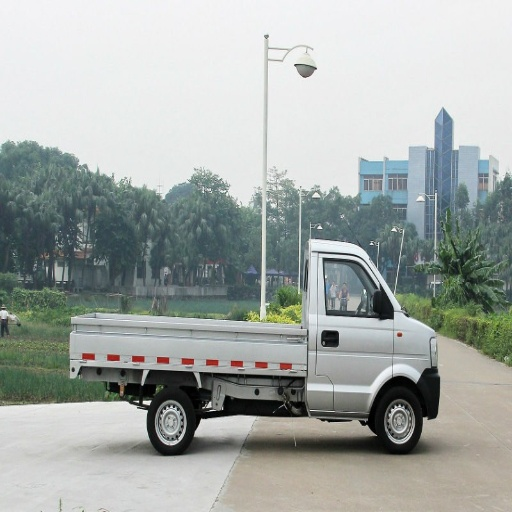trunk: (121, 325, 428, 415)
